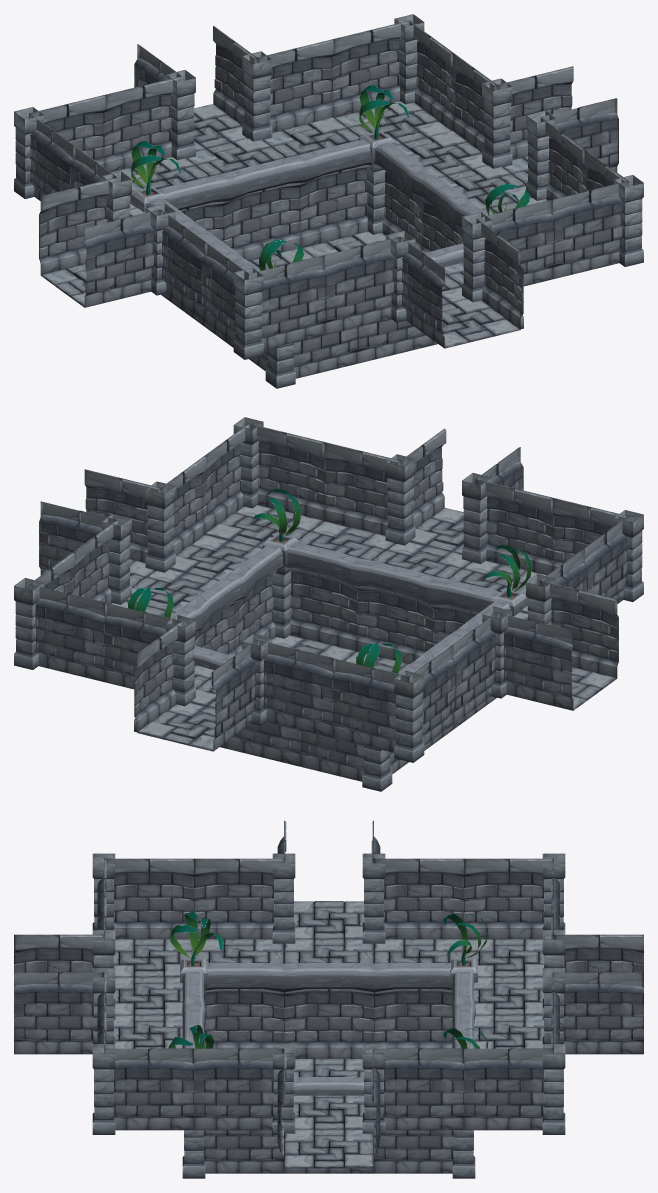
File: GFTemple_SquareRoom1.fbx
3 views of the same model, one above another, from view 1: azimuth 30°, elevation 25°; view 2: azimuth 150°, elevation 25°; view 3: azimuth 270°, elevation 25° (orthographic). The views are drawn at different scales.
Visible parts, largest first — view 1: GFTemple_Wall24, GFTemple_Wall27, GFTemple_Wall30, GFTemple_Wall29, GFTemple_Wall8, GFTemple_Wall1, GFTemple_Wall14, GFTemple_Wall23, GFTemple_Wall10, GFTemple_Wall6, GFTemple_Wall28, GFTemple_Wall12 (+55 smaller); view 2: GFTemple_Wall23, GFTemple_Wall14, GFTemple_Wall1, GFTemple_Wall27, GFTemple_Wall15, GFTemple_Wall30, GFTemple_Wall28, GFTemple_Wall24, GFTemple_Wall32, GFTemple_Wall33, GFTemple_Wall8, GFTemple_Wall16 (+54 smaller); view 3: GFTemple_Wall9, GFTemple_Wall38, GFTemple_Wall20, GFTemple_Wall5, GFTemple_Wall4, GFTemple_Wall21, GFTemple_Wall17, GFTemple_Wall18, GFTemple_Wall25, GFTemple_Wall26, GFTemple_Wall35, GFTemple_Wall34 (+47 smaller).
Part boxes in pixels (x1,y1,x2,y2): GFTemple_Wall24: (84,209,160,307); GFTemple_Wall27: (553,181,627,279); GFTemple_Wall30: (324,237,400,334); GFTemple_Wall29: (248,255,326,349); GFTemple_Wall8: (257,39,333,132); GFTemple_Wall1: (331,20,409,117); GFTemple_Wall14: (103,76,181,171); GFTemple_Wall23: (39,177,117,275); GFTemple_Wall10: (223,183,301,260); GFTemple_Wall6: (299,165,368,247); GFTemple_Wall28: (476,199,554,286); GFTemple_Wall12: (497,66,573,159); GFTemple_Wall23: (497,613,573,710); GFTemple_Wall14: (257,640,333,737); GFTemple_Wall1: (31,584,104,681); GFTemple_Wall27: (249,423,326,521); GFTemple_Wall15: (331,658,408,752); GFTemple_Wall30: (477,479,554,574); GFTemple_Wall28: (324,442,400,535); GFTemple_Wall24: (541,580,618,678); GFTemple_Wall32: (357,586,434,663); GFTemple_Wall33: (289,567,358,651); GFTemple_Wall8: (103,602,180,688); GFTemple_Wall16: (211,640,257,751); GFTemple_Wall9: (554,972,643,1054); GFTemple_Wall38: (14,972,103,1054); GFTemple_Wall20: (194,1048,283,1130); GFTemple_Wall5: (374,1048,463,1130); GFTemple_Wall4: (464,1048,552,1130); GFTemple_Wall21: (105,1048,193,1130); GFTemple_Wall17: (464,858,552,939); GFTemple_Wall18: (374,858,463,939); GFTemple_Wall25: (194,858,283,939); GFTemple_Wall26: (104,858,193,939); GFTemple_Wall35: (284,989,373,1059); GFTemple_Wall34: (374,989,452,1048).
Bounding box in the file's own units: 28 × 8 × 28.
